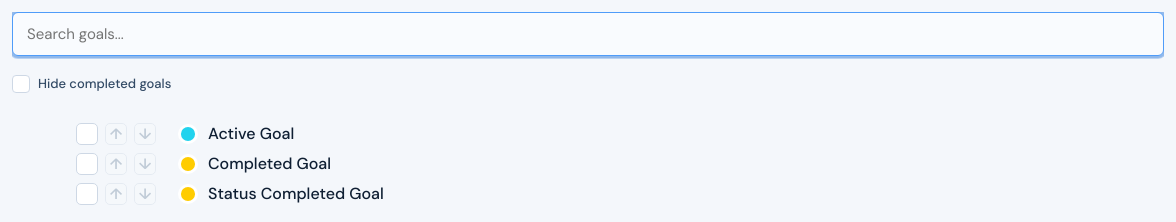
Test: GoalHierarchySelector › can hide completed goals from the hierarchy
expect the text "Active Goal" is shown: met, box left=208, top=124, right=294, bottom=144
expect the text "Completed Goal" is shown: met, box left=208, top=154, right=331, bottom=174
Click the 1st checkbox labelled "Hide completed goals": (92, 84) left=12, top=74, right=171, bottom=94
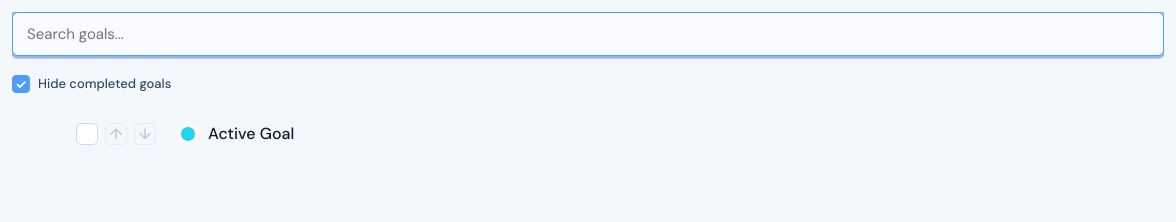
expect the text "Active Goal" is shown: met, box left=208, top=124, right=294, bottom=144
expect the text "Status Completed Goal" is gone: met
